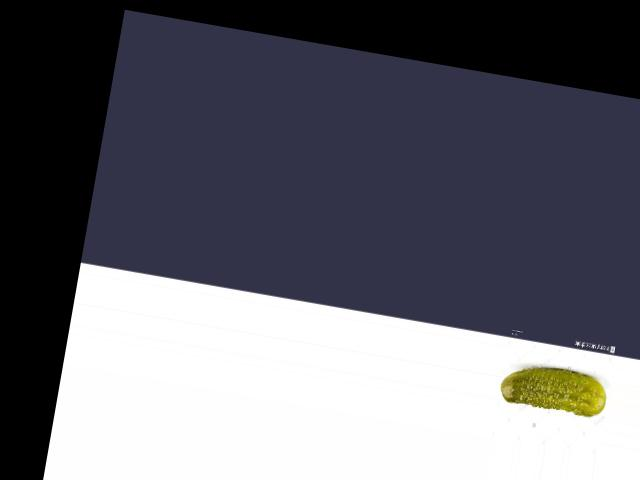cucumber: (497, 358, 609, 419)
